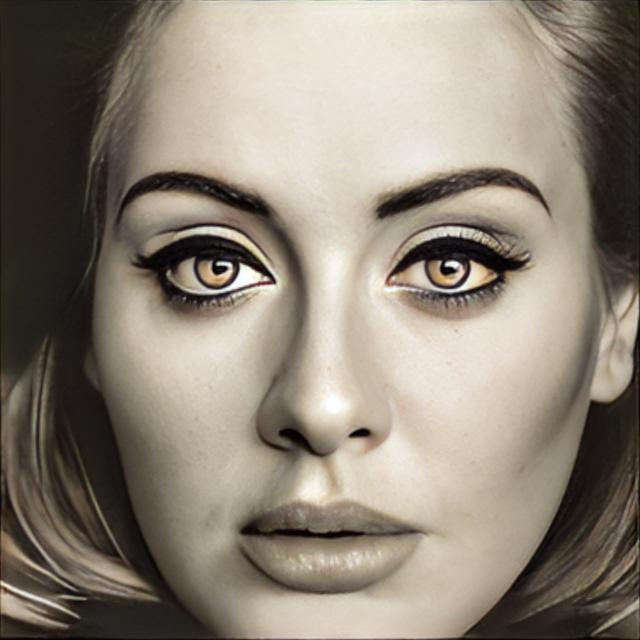neutral: (90, 2, 599, 640)
